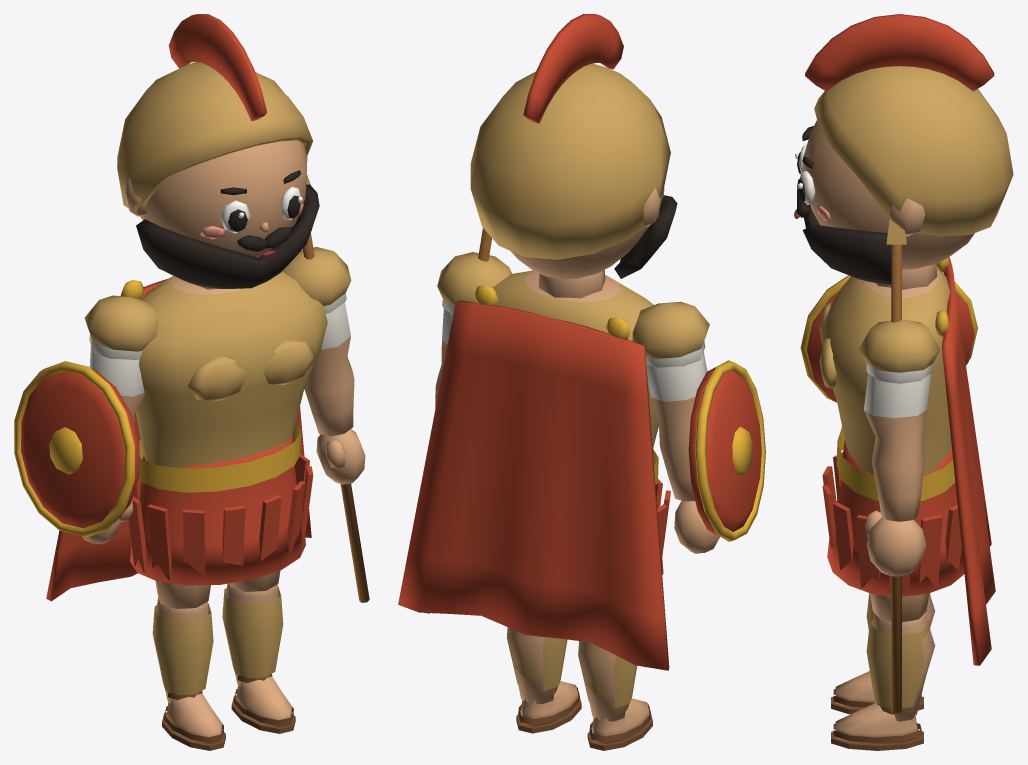
File: spartaner.glb
3 views of the same model, side by side, from view 1: azimuth 30°, elevation 25°; view 2: azimuth 150°, elevation 25°; view 3: azimuth 270°, elevation 25° (orthographic). The views are drawn at different scales.
Visible parts, largest first — view 1: rumpf, kopfschmuck, huefte, itemL, kopf, armR, bart, knieR, knieL, armL, umhang, itemR (+3 smaller); view 2: umhang, kopfschmuck, itemL, armL, rumpf, knieL, knieR, kopf, armR, bart, huefte; view 3: kopfschmuck, armR, rumpf, huefte, umhang, kopf, knieR, bart, itemL, itemR, knieL, beinR (+1 smaller).
Part boxes in pixels (x1,y1,x2,y2): rumpf: [135, 271, 327, 492]; kopfschmuck: [117, 14, 312, 212]; huefte: [128, 436, 313, 585]; itemL: [14, 361, 139, 537]; kopf: [123, 140, 307, 289]; armR: [282, 247, 365, 484]; bart: [136, 184, 319, 288]; knieR: [222, 583, 295, 733]; knieL: [152, 597, 225, 750]; armL: [82, 295, 158, 544]; umhang: [46, 279, 311, 601]; itemR: [303, 174, 369, 602]; umhang: [398, 285, 669, 670]; kopfschmuck: [470, 14, 670, 259]; itemL: [688, 360, 765, 541]; armL: [632, 301, 719, 553]; rumpf: [493, 270, 658, 485]; knieL: [578, 641, 652, 750]; knieR: [507, 627, 581, 733]; kopf: [510, 187, 664, 298]; armR: [435, 252, 512, 408]; bart: [614, 195, 677, 278]; huefte: [655, 479, 670, 574]; kopfschmuck: [805, 14, 1013, 236]; armR: [859, 319, 940, 576]; rumpf: [819, 267, 955, 500]; huefte: [822, 440, 964, 596]; umhang: [935, 257, 995, 665]; kopf: [803, 120, 974, 289]; knieR: [831, 612, 935, 750]; bart: [797, 190, 891, 284]; itemL: [800, 273, 977, 402]; itemR: [886, 218, 906, 712]; knieL: [831, 593, 935, 714]; beinR: [870, 593, 929, 622].
Size of the model in its own units: 1.19 by 2.48 by 0.6955.
